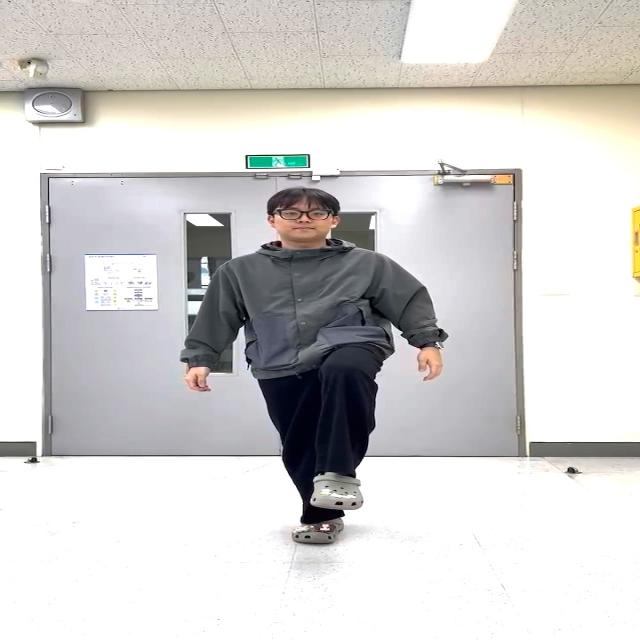leg: (296, 334, 394, 516)
